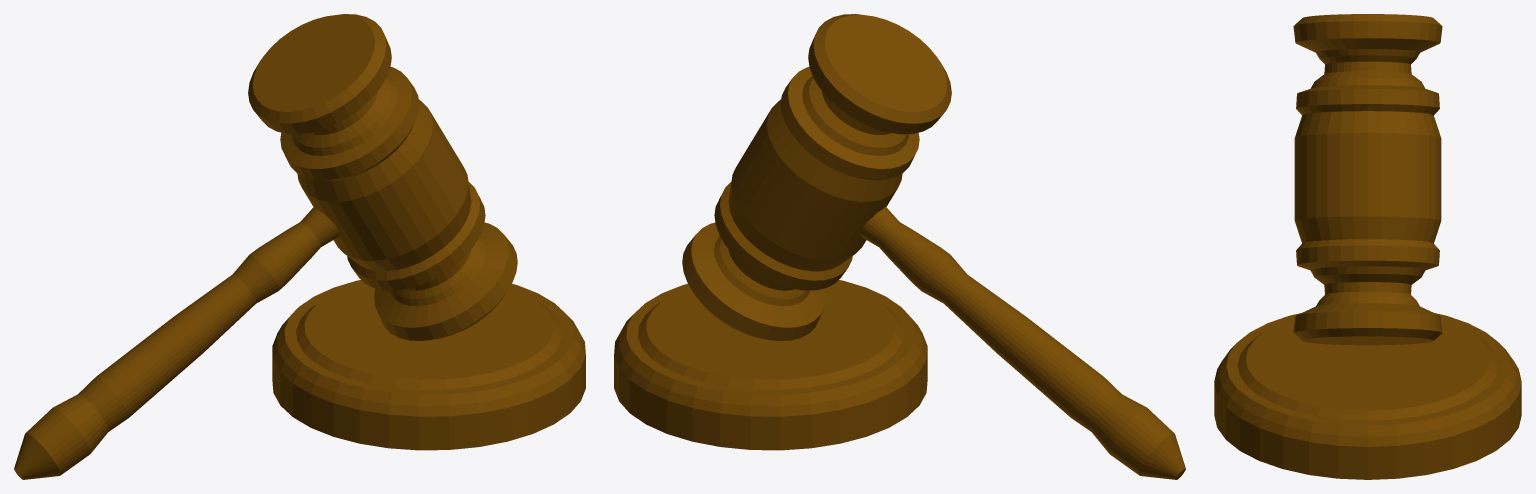
The model's file is gavel.fbx.
The picture shows the model from 3 angles, left to right: view 1: azimuth 30°, elevation 25°; view 2: azimuth 150°, elevation 25°; view 3: azimuth 270°, elevation 25°; orthographic projection. The views are drawn at different scales.
Parts seen in each view (by area): view 1: Gavel; view 2: Gavel; view 3: Gavel.
Boxes of the visible parts, x1,y1,x2,y2 form: Gavel: (14,14,585,479); Gavel: (614,14,1185,479); Gavel: (1214,14,1521,479).
Bounding box in the file's own units: 93.48 × 61.51 × 46.31.
